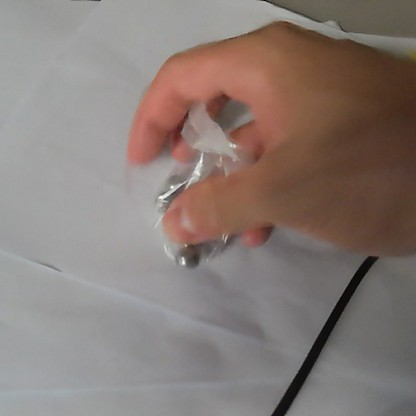ironball: (172, 243, 200, 270), (151, 189, 171, 210), (217, 234, 243, 248), (167, 175, 186, 194)
